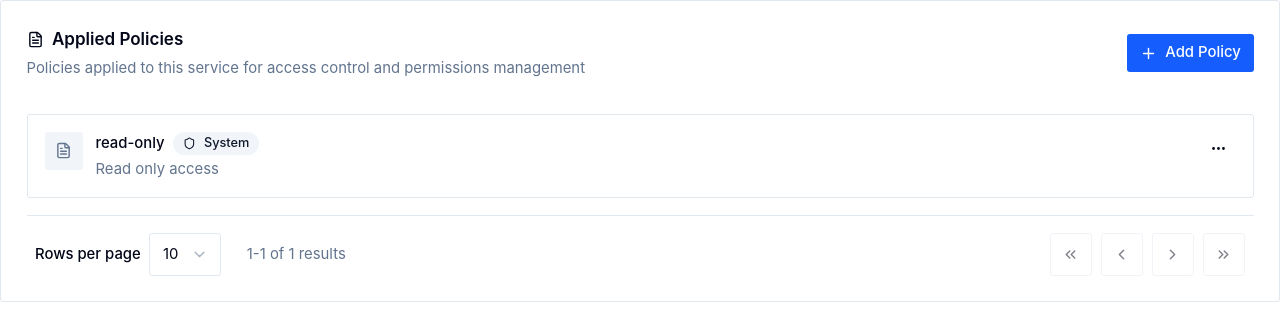
Scenario: ServicePoliciesTab › hides the remove action for system policies
Click the 1st button named "open menu" at (1218,149), box top-left (1202, 132), bottom-right (1236, 166)
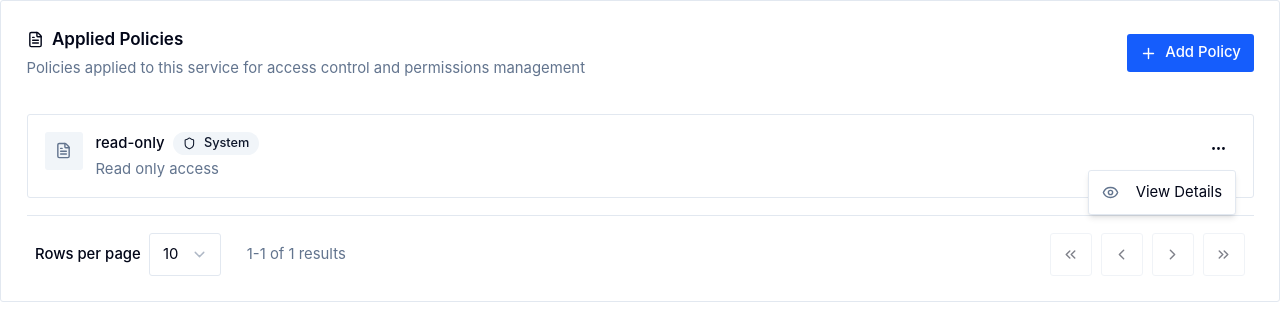
Now the menu item "View Details" is shown, box top-left (1102, 183), bottom-right (1222, 201)
